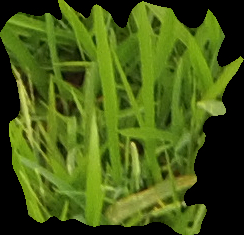grass: (1, 1, 242, 233)
